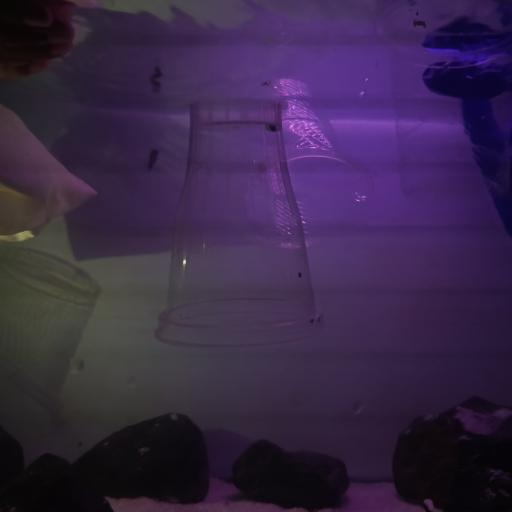glove: (421, 23, 512, 238), (2, 105, 96, 237)
plastic_cup: (153, 95, 330, 351), (381, 15, 512, 213), (242, 76, 377, 252), (2, 237, 103, 449)
